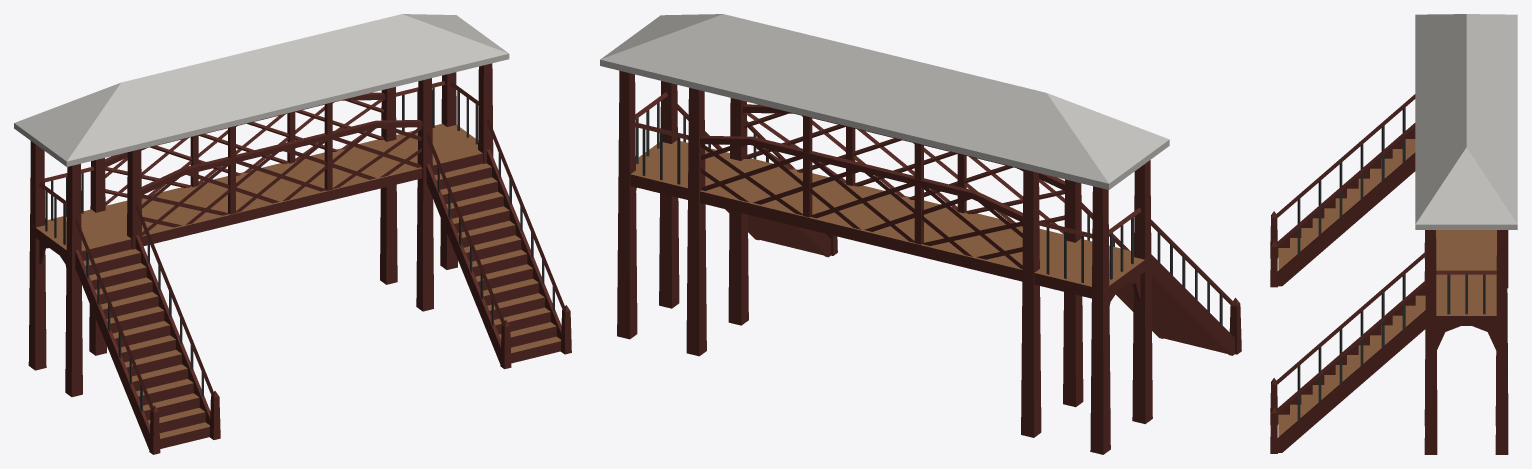
The model's file is station-footbridge-dfb6b8.glb.
3 renders of one model, left to right at view 1: azimuth 30°, elevation 25°; view 2: azimuth 150°, elevation 25°; view 3: azimuth 270°, elevation 25°, orthographic. The views are drawn at different scales.
Parts seen in each view (by area): view 1: station-footbridge-body; view 2: station-footbridge-body; view 3: station-footbridge-body.
Part boxes in pixels (<box>): station-footbridge-body: <box>14,14,571,454</box>; station-footbridge-body: <box>600,14,1241,454</box>; station-footbridge-body: <box>1270,14,1517,454</box>.
Bounding box in the file's own units: 12.6 × 7.67 × 6.28.
